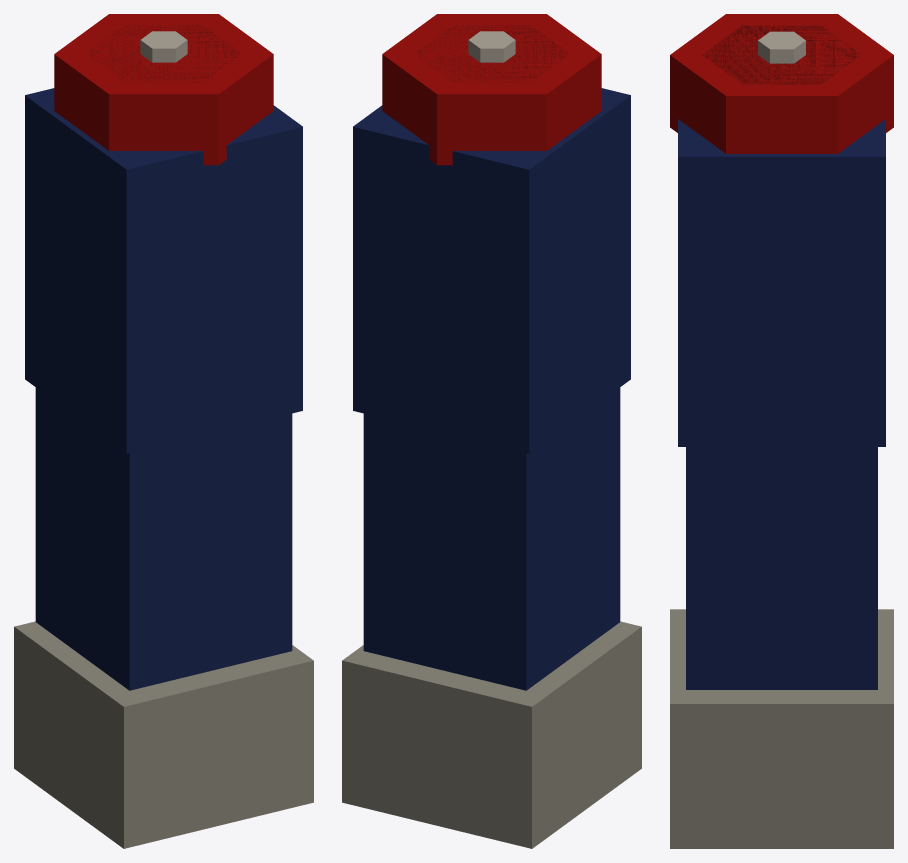
File: american_arm_r.glb
3 views of the same model, side by side, from view 1: azimuth 30°, elevation 25°; view 2: azimuth 150°, elevation 25°; view 3: azimuth 270°, elevation 25° (orthographic). The views are drawn at different scales.
Visible parts, largest first — view 1: american_arm_R; view 2: american_arm_R; view 3: american_arm_R.
Part boxes in pixels (<box>): american_arm_R: <box>14,14,313,848</box>; american_arm_R: <box>342,14,641,848</box>; american_arm_R: <box>670,14,893,848</box>.
Size of the model in its own units: 0.28 by 1.05 by 0.28.
